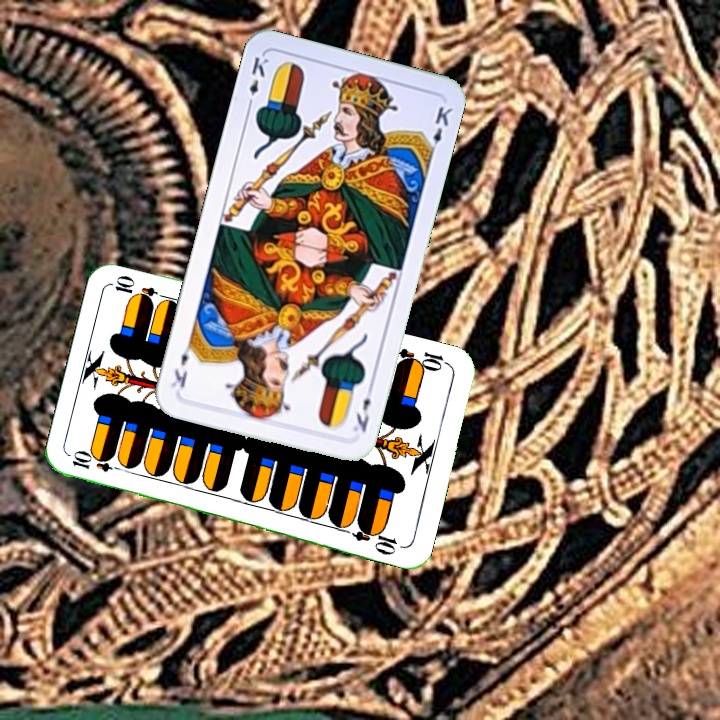E10: (393, 343, 452, 374), (68, 449, 127, 475)
EK: (243, 52, 271, 111), (349, 381, 376, 435)
